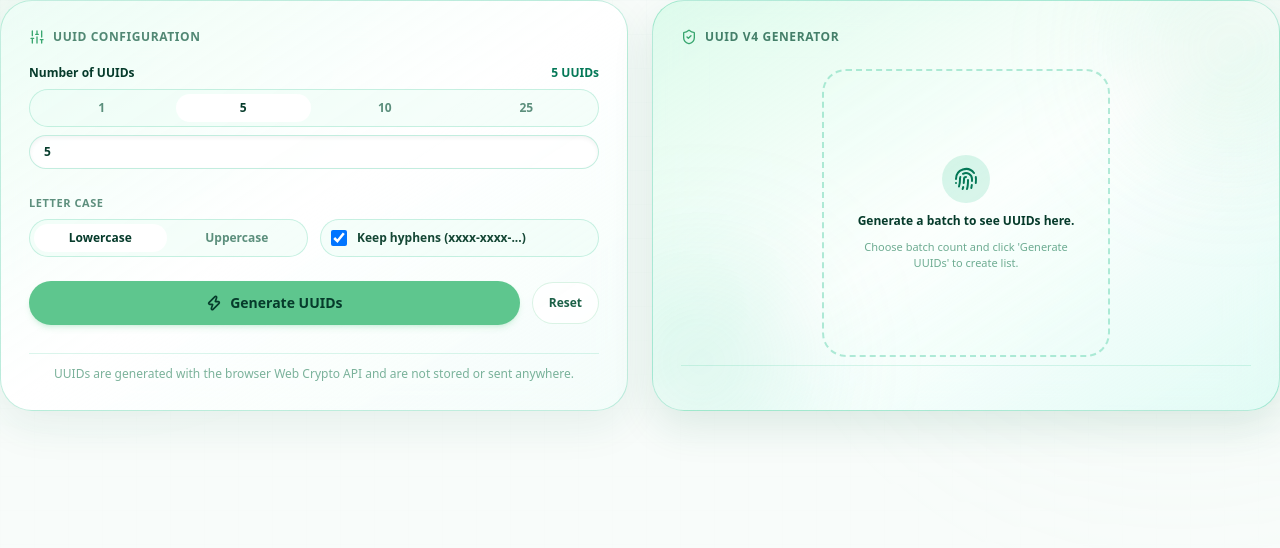
Test: developer workspaces › generates the default UUID batch only after the explicit action
Click the button "Generate UUIDs" at (274, 303), box [29,281,520,325]
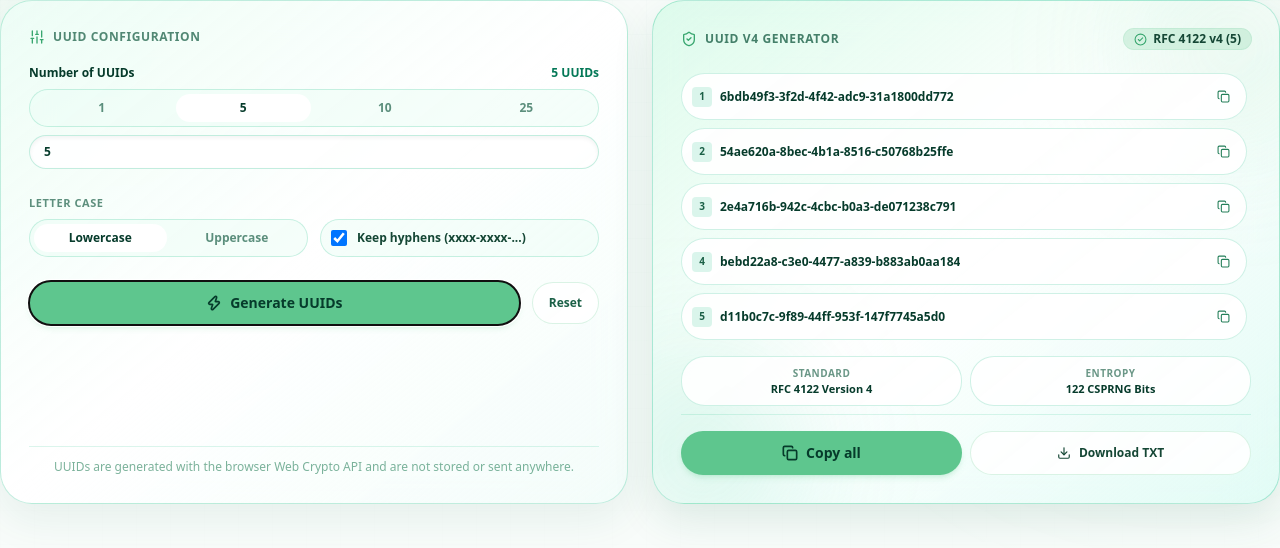
expect the number of list items is 5: met, box [681,73,1247,120]; [681,128,1247,175]; [681,183,1247,230]; [681,238,1247,285]; [681,293,1247,340]
